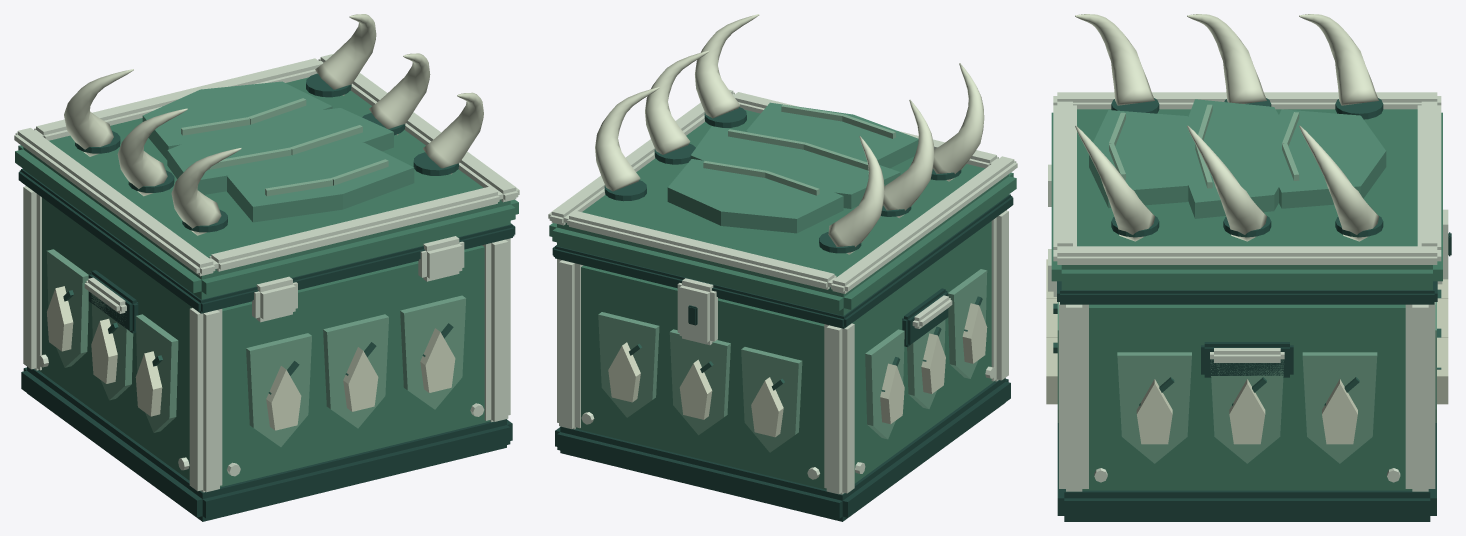
File: crate_espinhos.fbx
3 views of the same model, side by side, from view 1: azimuth 30°, elevation 25°; view 2: azimuth 150°, elevation 25°; view 3: azimuth 270°, elevation 25° (orthographic). The views are drawn at different scales.
Parts seen in each view (by area): view 1: crate_espinhos_caixa; view 2: crate_espinhos_caixa; view 3: crate_espinhos_caixa.
Part boxes in pixels (box(x1,y1,x2,y2)): crate_espinhos_caixa: box(14, 14, 519, 521); crate_espinhos_caixa: box(548, 14, 1017, 521); crate_espinhos_caixa: box(1046, 14, 1451, 521).
Size of the model in its own units: 2.69 by 2.76 by 2.71.
Materials: 1 (1 with a texture image).
